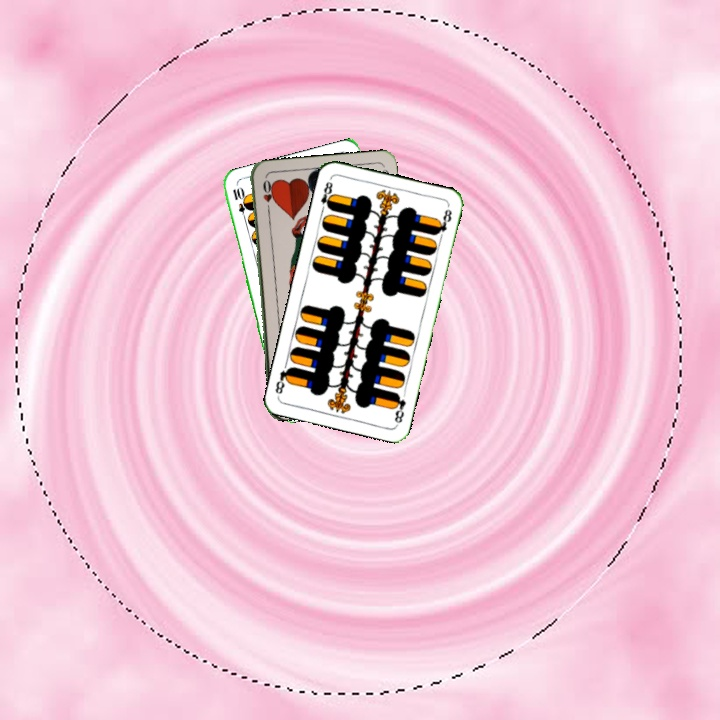E10: (228, 183, 250, 223)
E8: (317, 177, 337, 215), (389, 389, 408, 427)
HO: (259, 176, 274, 216)
